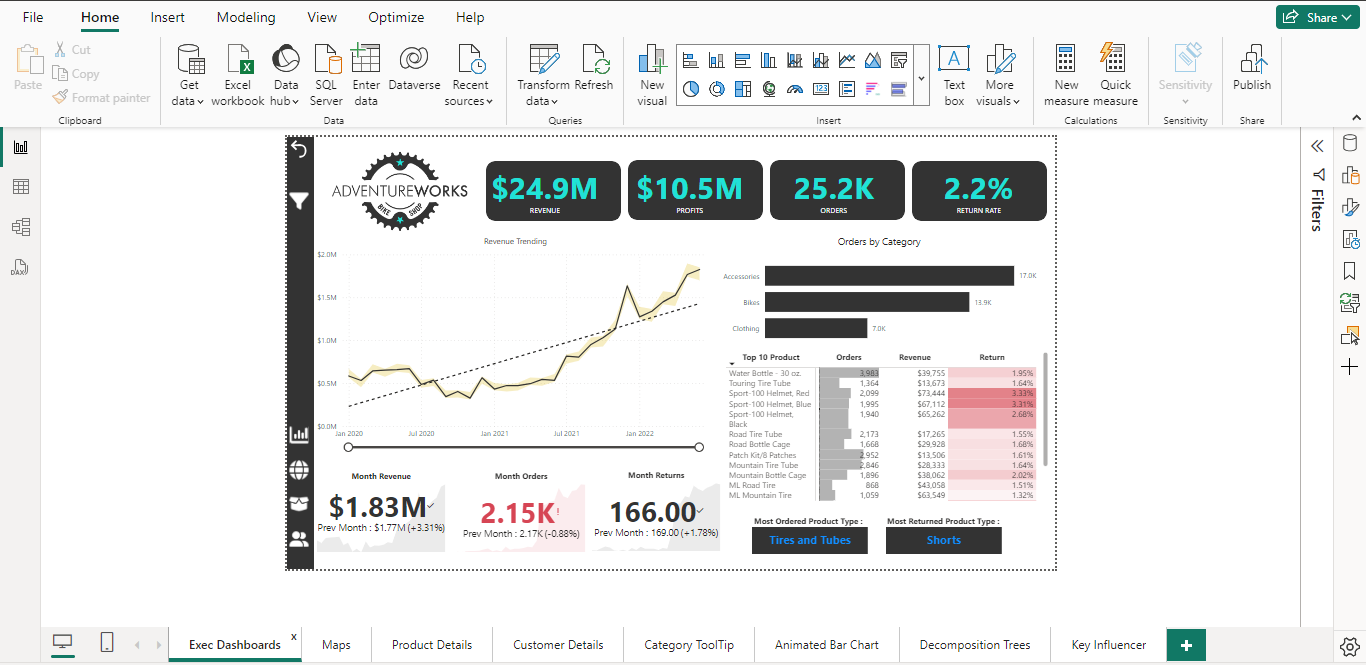

What the dashboard file says about the page in this screenshot:
{"tool":"powerbi","page":{"name":"Exec Dashboards ","canvas":[1280,720],"ordinal":0},"visuals":[{"type":"card","fields":{"Values":["Measure Table.Total Revenue"]},"box":[301.7,14.3,256.2,150],"z":0,"group":"g4"},{"type":"image","title":"AW Logo","box":[45.4,14.6,286.8,150.7],"z":0},{"type":"shape","box":[331.7,39.3,225,100],"z":0,"group":"g5"},{"type":"actionButton","title":"Dashboard BTN","box":[0,476.7,45,40],"z":0,"group":"g6"},{"type":"shape","box":[1041.7,38.5,225,100],"z":500,"group":"g5"},{"type":"shape","title":"Left Nav Background","box":[0,0,45,720],"z":1000},{"type":"card","fields":{"Values":["Measure Table.Total Profits"]},"box":[542.5,14.3,256.2,150],"z":1000,"group":"g4"},{"type":"shape","box":[568.4,37.6,225,100],"z":1000,"group":"g5"},{"type":"actionButton","title":"Map BTN","box":[0,534.5,45,40],"z":1000,"group":"g6"},{"type":"group","id":"g1","title":"KPIs","box":[301.7,14.3,978.3,150],"z":2000},{"type":"card","fields":{"Values":["Measure Table.Total Orders"]},"box":[783.4,14.3,256.2,150],"z":2000,"group":"g4"},{"type":"group","id":"g2","title":"KPIs Background","box":[331.7,37.6,935,101.7],"z":2000,"group":"g1"},{"type":"shape","box":[805,37.6,225,100],"z":2000,"group":"g5"},{"type":"actionButton","title":"Product BTN","box":[0,592.3,45,40],"z":2000,"group":"g6"},{"type":"card","fields":{"Values":["Measure Table.Return Rate"]},"box":[1024.2,14.3,256.2,150],"z":3000,"group":"g4"},{"type":"lineChart","title":"Revenue Trending","fields":{"Y":["Measure Table.Total Revenue"],"Category":["Calendar Lookup.Start of Month"]},"box":[45.4,165.4,671.7,362.9],"z":3000},{"type":"actionButton","title":"Customer BTN","box":[0,650,45,40],"z":3000,"group":"g6"},{"type":"group","id":"g3","title":"KPI Values","box":[301.7,14.3,978.3,150],"z":4000,"group":"g1"},{"type":"kpi","title":"Month Revenue","fields":{"TrendLine":["Calendar Lookup.Start of Month"],"Indicator":["Measure Table.Total Revenue"],"Goal":["Measure Table.Previous Month Revenue"]},"box":[45.4,556.1,223.9,140.5],"z":4000},{"type":"group","id":"g4","title":"Group 1","box":[301.7,14.3,978.8,150],"z":4001,"group":"g3"},{"type":"group","id":"g5","title":"Group 2","box":[331.7,37.6,935,101.7],"z":4001,"group":"g2"},{"type":"kpi","title":"Month Returns","fields":{"TrendLine":["Calendar Lookup.Start of Month"],"Indicator":["Measure Table.Total Returns"],"Goal":["Measure Table.Previous Month Returns"]},"box":[503.4,554.6,223.9,140.5],"z":5000},{"type":"kpi","title":"Month Orders","fields":{"TrendLine":["Calendar Lookup.Start of Month"],"Indicator":["Measure Table.Total Orders"],"Goal":["Measure Table.Previous Month Orders"]},"box":[278,556.1,223.9,140.5],"z":6000},{"type":"clusteredBarChart","title":" Orders by Category","fields":{"Category":["Product Categories Lookup.CategoryName"],"Y":["Measure Table.Total Orders"]},"box":[717.1,163.9,540,196.1],"z":7000},{"type":"pivotTable","fields":{"Rows":["Product Lookup.ProductName"],"Values":["Measure Table.Total Orders","Measure Table.Total Revenue","Measure Table.Return Rate"]},"box":[726.7,353.3,546.7,258.3],"z":8000},{"type":"card","fields":{"Values":["Min(Product Subcategories Lookup.SubcategoryName)"]},"box":[775,649.3,193.3,45],"z":9000},{"type":"textbox","box":[773.3,626,225,28.3],"z":10000},{"type":"card","fields":{"Values":["Min(Product Subcategories Lookup.SubcategoryName)"]},"box":[998.3,649.3,193.3,45],"z":11000},{"type":"textbox","box":[995,626,225,28.3],"z":12000},{"type":"actionButton","box":[0,0,44.7,39.3],"z":13000},{"type":"group","id":"g6","title":"Navigation Buttons","box":[0,476.7,45,213.3],"z":14000},{"type":"actionButton","box":[0,86.7,45,40],"z":15000}]}

Visuals, with their boxes on the page's 1280x720 design canvas (x1, y1, x2, y2). These are canvas units, not pixel positions in the 1366x665 screenshot, which may show the page scaled, cropped or inside an application window:
card - Measure Table.Total Revenue: pyautogui.locateOnScreen(302, 14, 558, 164)
"AW Logo" image: pyautogui.locateOnScreen(45, 15, 332, 165)
shape: pyautogui.locateOnScreen(332, 39, 557, 139)
"Dashboard BTN" actionButton: pyautogui.locateOnScreen(0, 477, 45, 517)
shape: pyautogui.locateOnScreen(1042, 38, 1267, 138)
"Left Nav Background" shape: pyautogui.locateOnScreen(0, 0, 45, 720)
card - Measure Table.Total Profits: pyautogui.locateOnScreen(542, 14, 799, 164)
shape: pyautogui.locateOnScreen(568, 38, 793, 138)
"Map BTN" actionButton: pyautogui.locateOnScreen(0, 534, 45, 574)
"KPIs" group: pyautogui.locateOnScreen(302, 14, 1280, 164)
card - Measure Table.Total Orders: pyautogui.locateOnScreen(783, 14, 1040, 164)
"KPIs Background" group: pyautogui.locateOnScreen(332, 38, 1267, 139)
shape: pyautogui.locateOnScreen(805, 38, 1030, 138)
"Product BTN" actionButton: pyautogui.locateOnScreen(0, 592, 45, 632)
card - Measure Table.Return Rate: pyautogui.locateOnScreen(1024, 14, 1280, 164)
"Revenue Trending" lineChart: pyautogui.locateOnScreen(45, 165, 717, 528)
"Customer BTN" actionButton: pyautogui.locateOnScreen(0, 650, 45, 690)
"KPI Values" group: pyautogui.locateOnScreen(302, 14, 1280, 164)
"Month Revenue" kpi: pyautogui.locateOnScreen(45, 556, 269, 697)
"Group 1" group: pyautogui.locateOnScreen(302, 14, 1280, 164)
"Group 2" group: pyautogui.locateOnScreen(332, 38, 1267, 139)
"Month Returns" kpi: pyautogui.locateOnScreen(503, 555, 727, 695)
"Month Orders" kpi: pyautogui.locateOnScreen(278, 556, 502, 697)
" Orders by Category" clusteredBarChart: pyautogui.locateOnScreen(717, 164, 1257, 360)
pivotTable - Product Lookup.ProductName x Measure Table.Total Orders: pyautogui.locateOnScreen(727, 353, 1273, 612)
card - Min(Product Subcategories Lookup.SubcategoryName): pyautogui.locateOnScreen(775, 649, 968, 694)
textbox: pyautogui.locateOnScreen(773, 626, 998, 654)
card - Min(Product Subcategories Lookup.SubcategoryName): pyautogui.locateOnScreen(998, 649, 1192, 694)
textbox: pyautogui.locateOnScreen(995, 626, 1220, 654)
actionButton: pyautogui.locateOnScreen(0, 0, 45, 39)
"Navigation Buttons" group: pyautogui.locateOnScreen(0, 477, 45, 690)
actionButton: pyautogui.locateOnScreen(0, 87, 45, 127)
